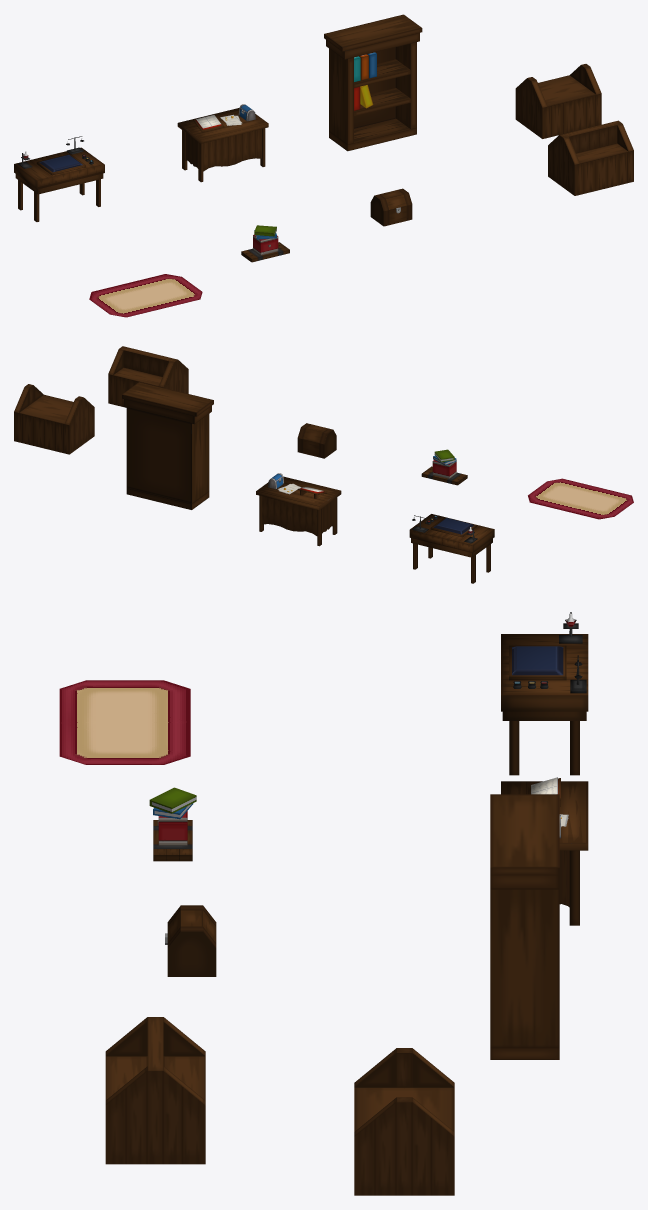
The model's file is S1_ALL.FBX.
The picture shows the model from 3 angles, top to bottom: view 1: azimuth 30°, elevation 25°; view 2: azimuth 150°, elevation 25°; view 3: azimuth 270°, elevation 25°; orthographic projection. The views are drawn at different scales.
Visible parts, largest first — view 1: Object005, Plane006, Plane001, Object008, Object106, Plane003, Plane002, Box001; view 2: Object005, Plane001, Object008, Plane006, Object106, Plane003, Plane002, Box001; view 3: Object005, Plane006, Plane001, Plane003, Object106, Object008, Plane002, Box001.
Part boxes in pixels (x1,y1,x2,y2): Object005: [324, 14, 422, 151]; Plane006: [548, 120, 633, 195]; Plane001: [515, 64, 601, 138]; Object008: [177, 104, 268, 182]; Object106: [14, 136, 104, 221]; Plane003: [89, 274, 202, 317]; Plane002: [370, 188, 412, 226]; Box001: [241, 225, 289, 262]; Object005: [122, 382, 213, 509]; Plane001: [14, 384, 94, 454]; Object008: [256, 473, 341, 546]; Plane006: [108, 346, 188, 407]; Object106: [409, 514, 494, 583]; Plane003: [528, 478, 633, 519]; Plane002: [297, 423, 336, 458]; Box001: [421, 449, 467, 485]; Object005: [490, 794, 559, 1059]; Plane006: [105, 1017, 205, 1164]; Plane001: [354, 1048, 454, 1195]; Plane003: [59, 680, 190, 764]; Object106: [501, 612, 588, 775]; Object008: [501, 777, 588, 925]; Plane002: [165, 905, 216, 976]; Box001: [149, 787, 196, 861].
Bounding box in the file's own units: 13.97 × 2.49 × 6.06.
